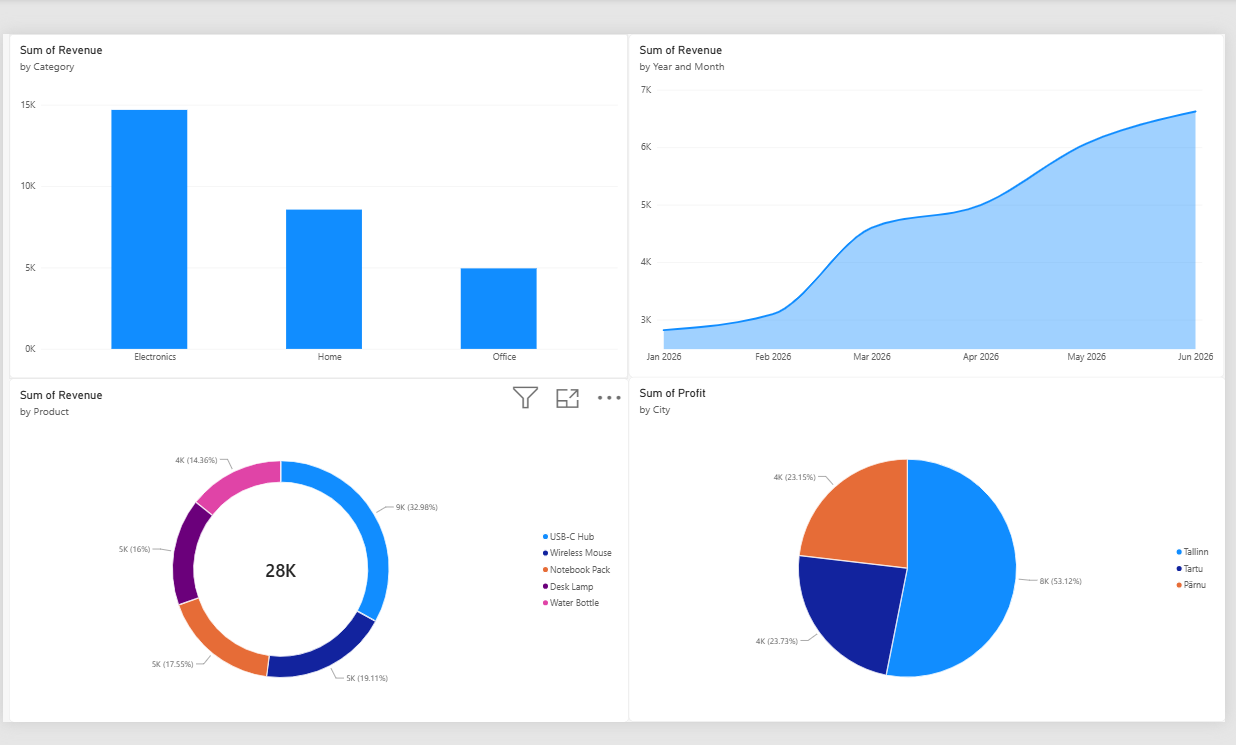

What the dashboard file says about the page in this screenshot:
{"tool":"powerbi","page":{"name":"Page 1","canvas":[1920,1080],"ordinal":0},"visuals":[{"type":"donutChart","fields":{"Category":["retail_sales.Product"],"Y":["Sum(retail_sales.Revenue)"]},"box":[8.9,540.2,973.6,540.2],"z":0},{"type":"columnChart","fields":{"Category":["retail_sales.Category"],"Y":["Sum(retail_sales.Revenue)"]},"box":[8.9,0,973.6,540.2],"z":1000},{"type":"areaChart","fields":{"Category":["retail_sales.OrderDate.Variation.Date Hierarchy.Year","retail_sales.OrderDate.Variation.Date Hierarchy.Month"],"Y":["Sum(retail_sales.Revenue)"]},"box":[982.6,0,935.5,539.6],"z":2000},{"type":"pieChart","fields":{"Category":["retail_sales.City"],"Y":["Sum(retail_sales.Profit)"]},"box":[982.6,539.6,937.8,542],"z":3000}]}

Visuals, with their boxes on the page's 1920x1080 design canvas (x1, y1, x2, y2). These are canvas units, not pixel positions in the 1236x745 screenshot, which may show the page scaled, cropped or inside an application window:
donutChart - retail_sales.Product x Sum(retail_sales.Revenue): bbox=(9, 540, 982, 1080)
columnChart - retail_sales.Category x Sum(retail_sales.Revenue): bbox=(9, 0, 982, 540)
areaChart - retail_sales.OrderDate.Variation.Date Hierarchy.Year x retail_sales.OrderDate.Variation.Date Hierarchy.Month: bbox=(983, 0, 1918, 540)
pieChart - retail_sales.City x Sum(retail_sales.Profit): bbox=(983, 540, 1920, 1082)
